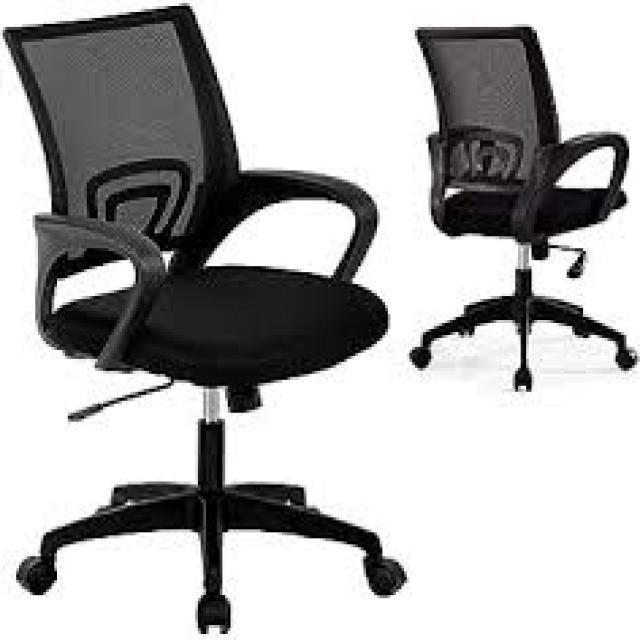chair: (0, 0, 416, 640), (391, 0, 640, 448)
